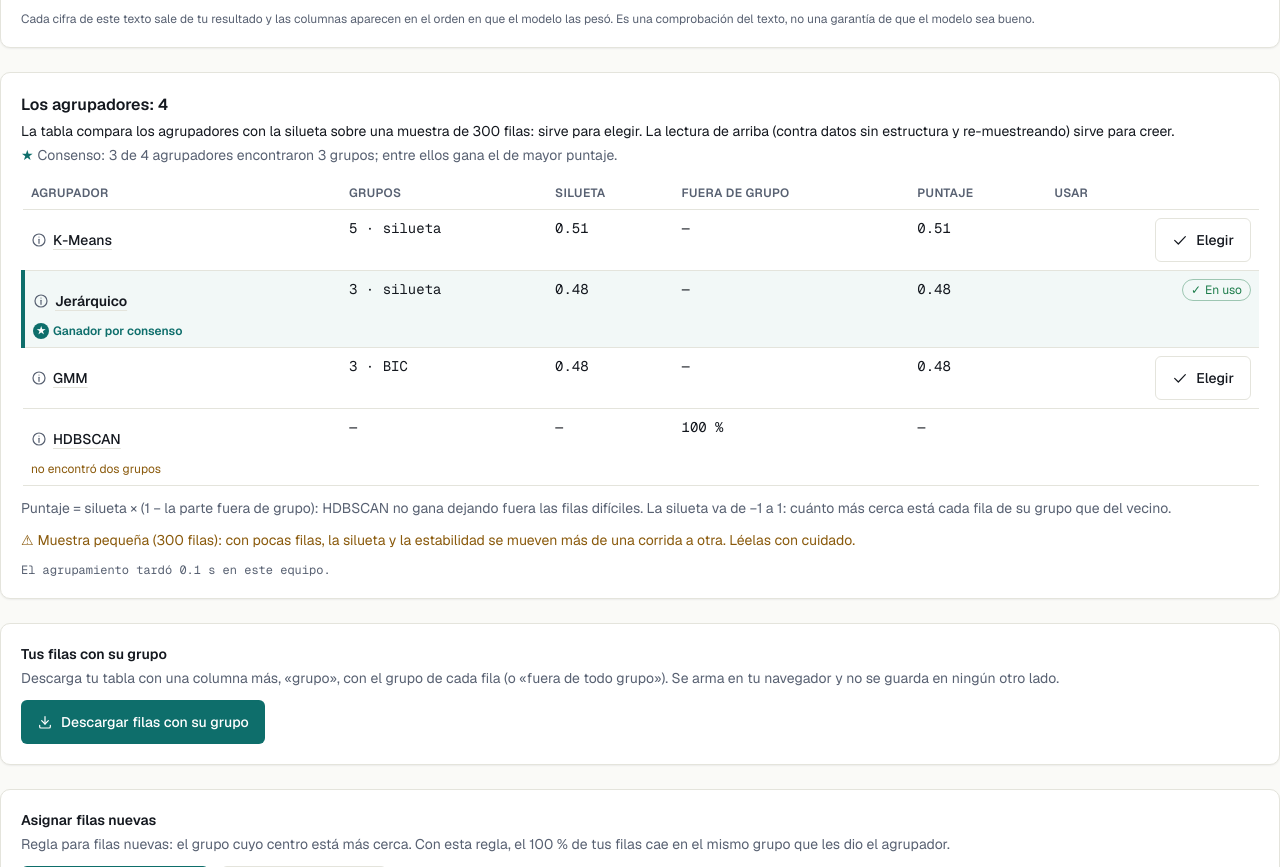
Test: S7: el copy de agrupar no dice lo que al agrupar no existe › la ficha de un no ganador, la barra y la card con muestra pequeña › la ficha de uno que no encontró dos grupos lo dice así
This screenshot has width=1280, height=867.
(page scrolled)
Click the button with aria-label "Ficha de HDBSCAN": point(76, 439) [31,417,121,461]
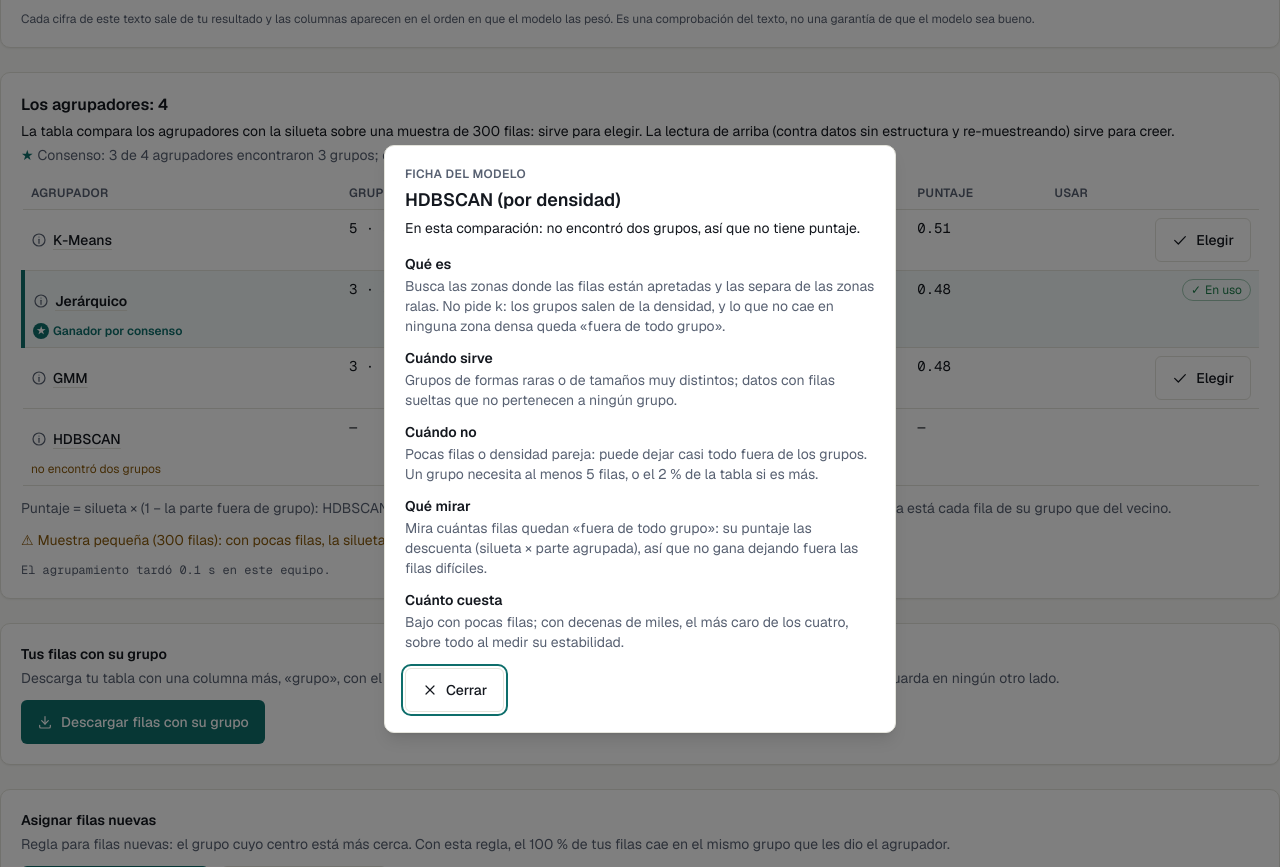
Now the dialog shows "no encontró dos grupos", box [405,219,860,237]
